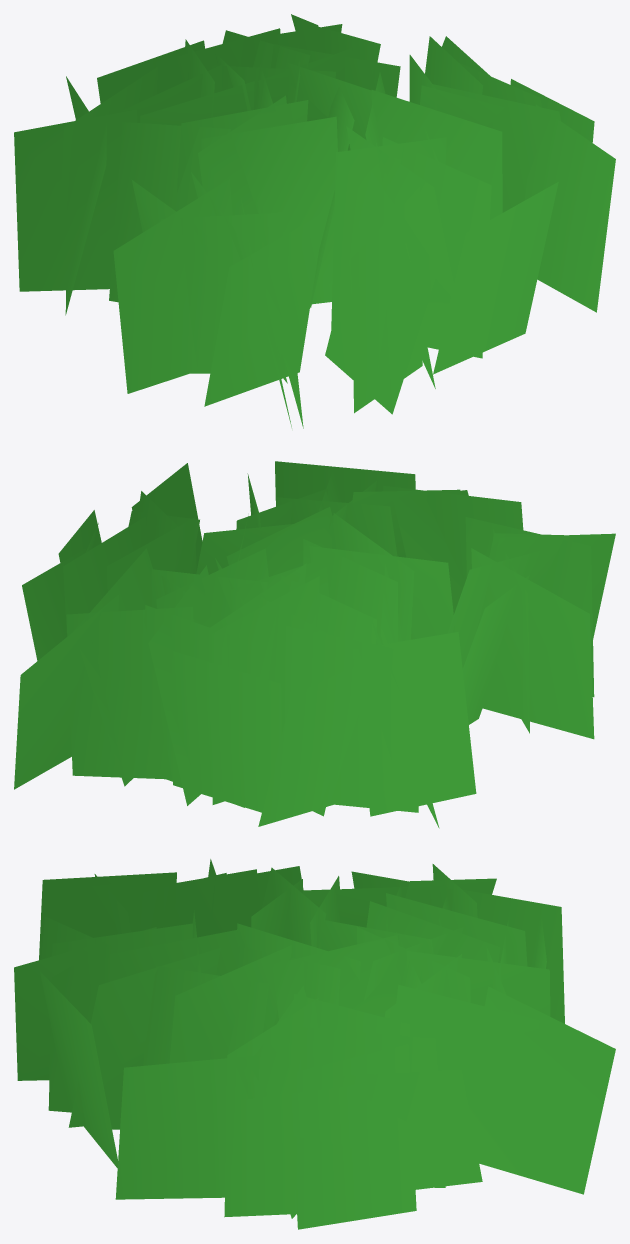
The model's file is IL3DN_Plant_Grass_02.fbx.
3 views of the same model, one above another, from view 1: azimuth 30°, elevation 25°; view 2: azimuth 150°, elevation 25°; view 3: azimuth 270°, elevation 25° (orthographic). The views are drawn at different scales.
Parts seen in each view (by area): view 1: IL3DN_Plant_Grass_02_LOD0; view 2: IL3DN_Plant_Grass_02_LOD0; view 3: IL3DN_Plant_Grass_02_LOD0.
Boxes of the visible parts, box(x1,y1,x2,y2) form: IL3DN_Plant_Grass_02_LOD0: box(14, 14, 615, 428); IL3DN_Plant_Grass_02_LOD0: box(14, 461, 615, 828); IL3DN_Plant_Grass_02_LOD0: box(14, 859, 615, 1229).
Size of the model in its own units: 178 by 69.35 by 189.
